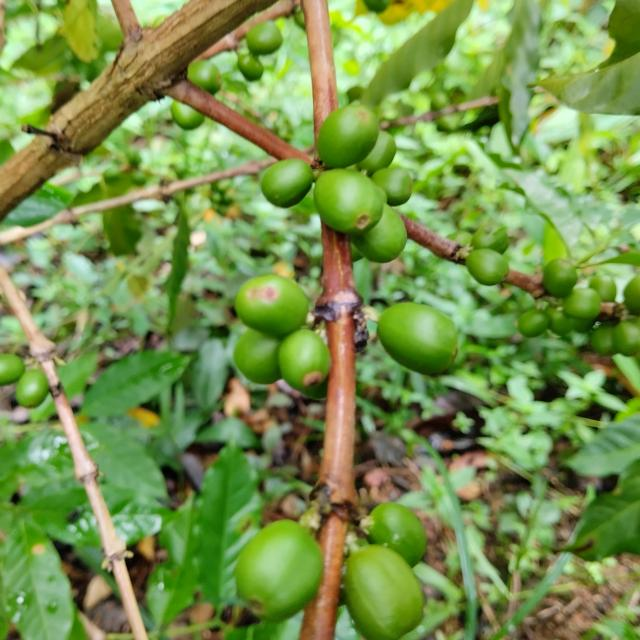green: (235, 521, 323, 623), (344, 545, 424, 640), (378, 302, 458, 375), (314, 168, 387, 234), (235, 274, 309, 337), (317, 104, 380, 168), (278, 329, 330, 394), (351, 204, 408, 263), (261, 158, 314, 208), (358, 130, 397, 174), (466, 248, 510, 286), (372, 167, 414, 206)
